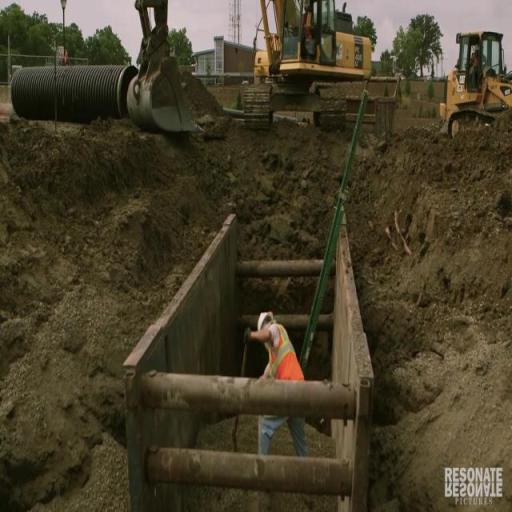helmet: (251, 305, 278, 330)
vest: (263, 318, 308, 386), (301, 8, 317, 46)
